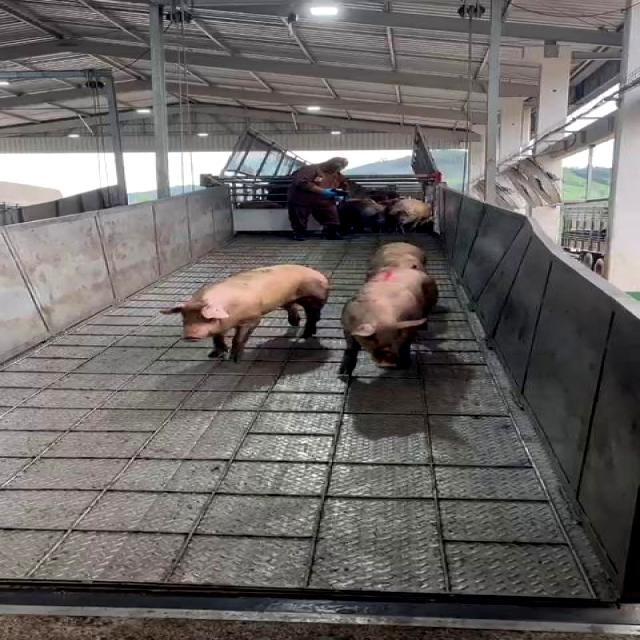pig: (167, 265, 328, 359), (341, 269, 437, 375), (366, 243, 426, 276)
